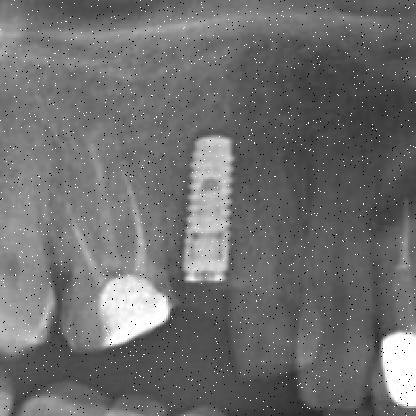ITI: (178, 132, 249, 286)
